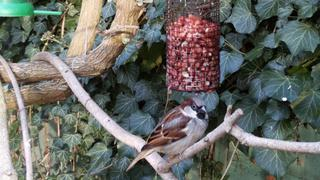sparrow: (124, 96, 209, 173)
